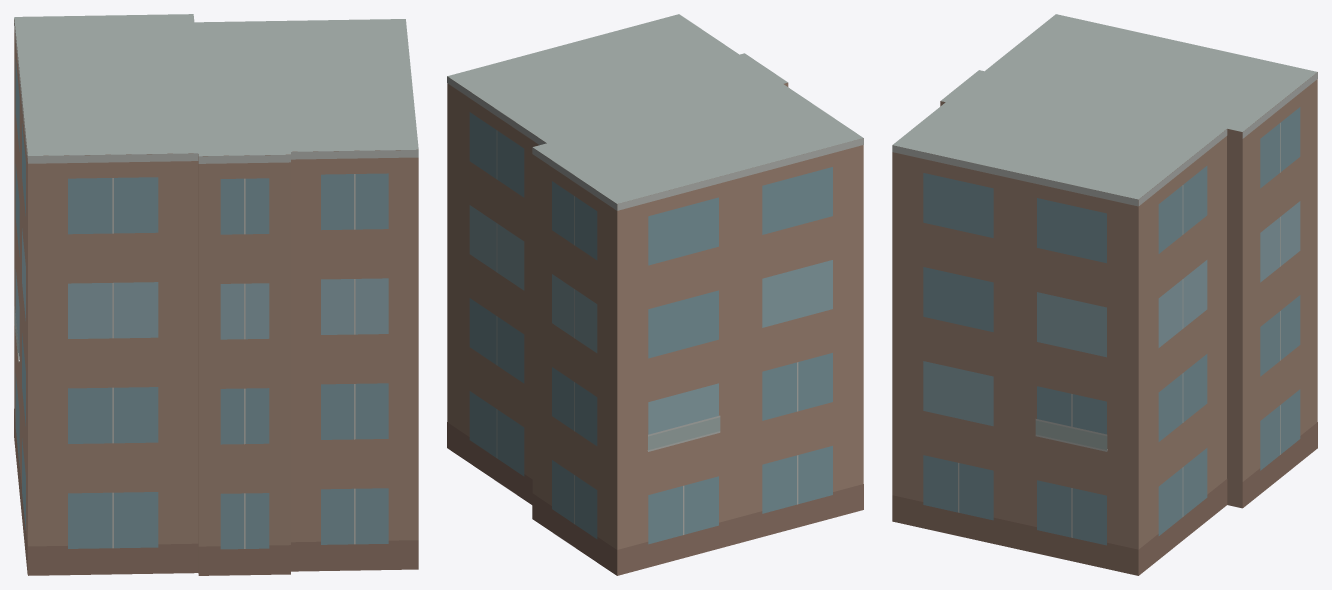
The model's file is survey-upis-32927587.glb.
3 views of the same model, side by side, from view 1: azimuth 30°, elevation 25°; view 2: azimuth 150°, elevation 25°; view 3: azimuth 270°, elevation 25° (orthographic). The views are drawn at different scales.
Parts seen in each view (by area): view 1: survey-upis-32927587.tmp; view 2: survey-upis-32927587.tmp; view 3: survey-upis-32927587.tmp.
Boxes of the visible parts, x1=… form: survey-upis-32927587.tmp: x1=14, y1=14, x2=418, y2=575; survey-upis-32927587.tmp: x1=447, y1=14, x2=863, y2=575; survey-upis-32927587.tmp: x1=892, y1=14, x2=1317, y2=575.
Size of the model in its own units: 13.97 by 13.2 by 13.53.
